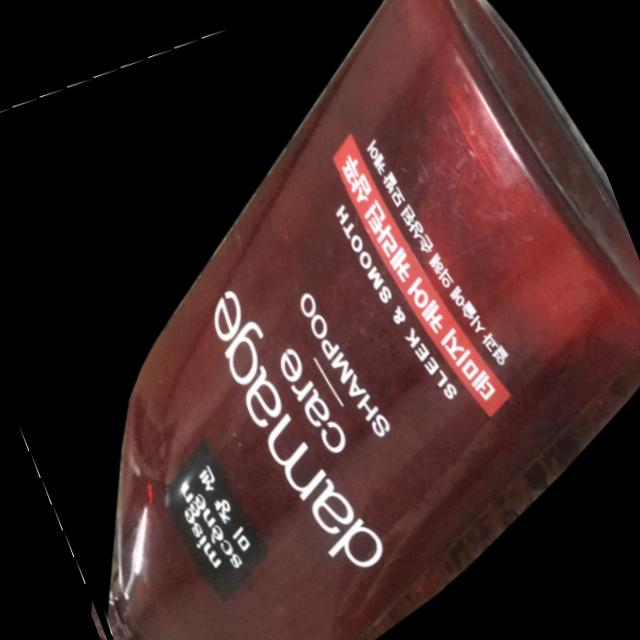plastic: (106, 0, 640, 640)
